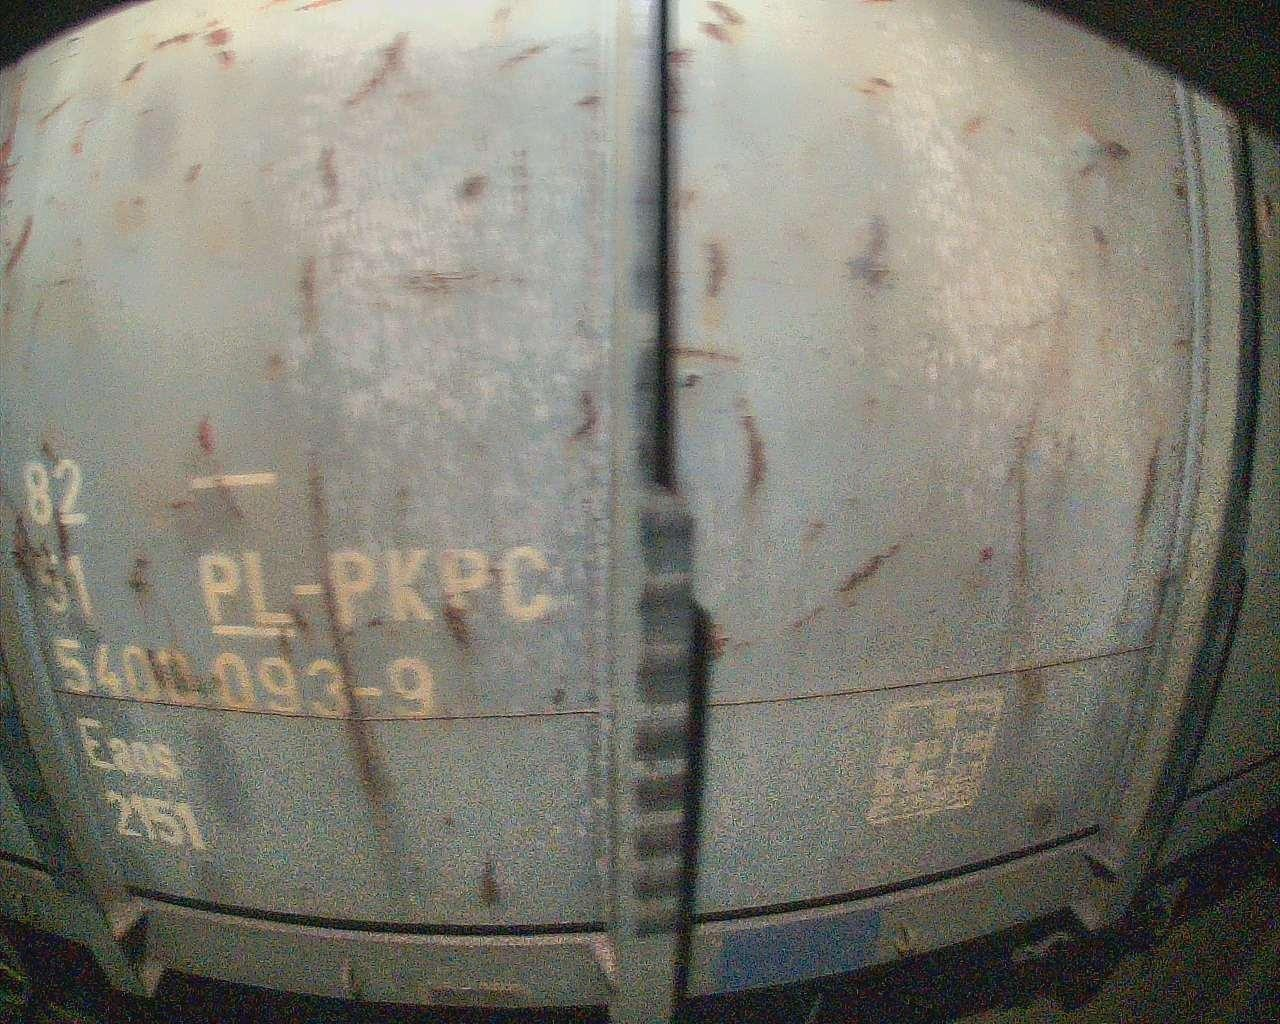UIC: (20, 456, 559, 853)
